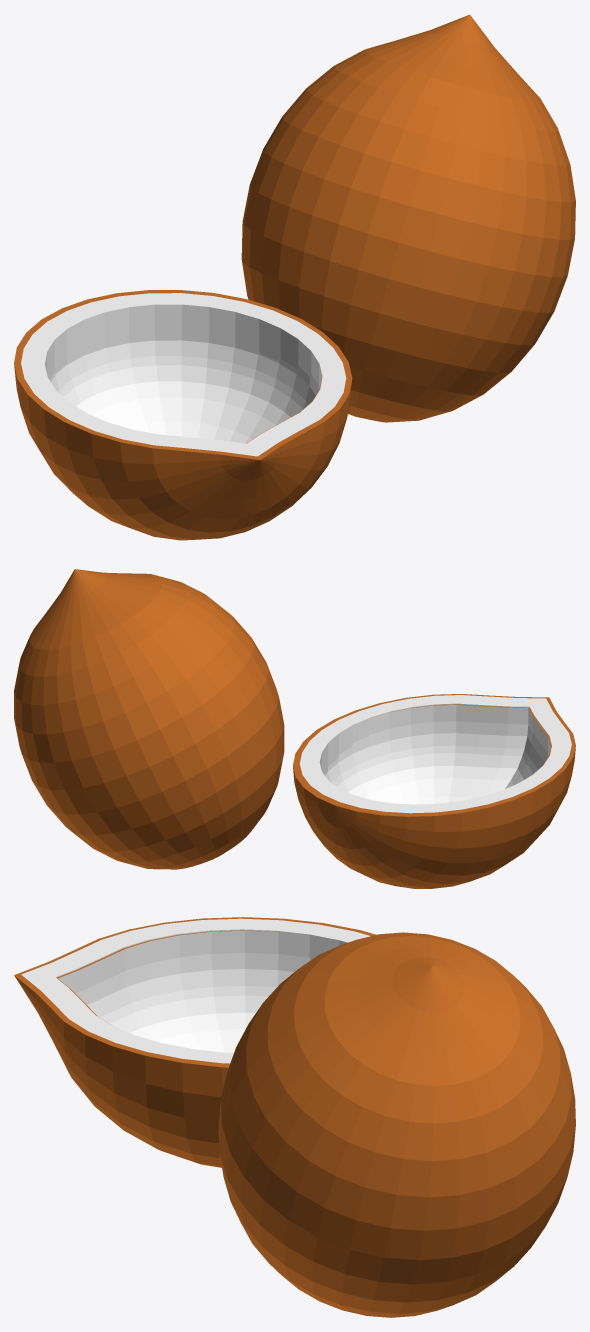
The model's file is coconut.glb.
3 renders of one model, top to bottom at view 1: azimuth 30°, elevation 25°; view 2: azimuth 150°, elevation 25°; view 3: azimuth 270°, elevation 25°, orthographic. The views are drawn at different scales.
Visible parts, largest first — view 1: Sphere001, Object001; view 2: Sphere001, Object001; view 3: Sphere001, Object001.
Part boxes in pixels (<box>): Sphere001: <box>14,14,575,540</box>; Object001: <box>21,293,346,456</box>; Sphere001: <box>14,569,575,888</box>; Object001: <box>299,695,571,813</box>; Sphere001: <box>14,917,575,1317</box>; Object001: <box>21,918,370,1063</box>.
Bounding box in the file's own units: 516198 × 301681 × 398928.
